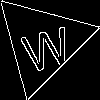W: (17, 17, 74, 74)
